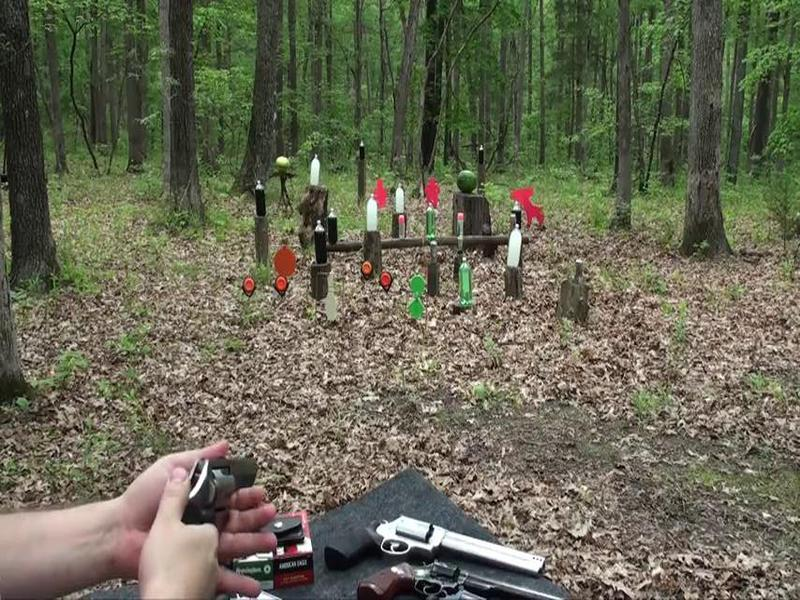Revolver: (155, 434, 268, 546)
